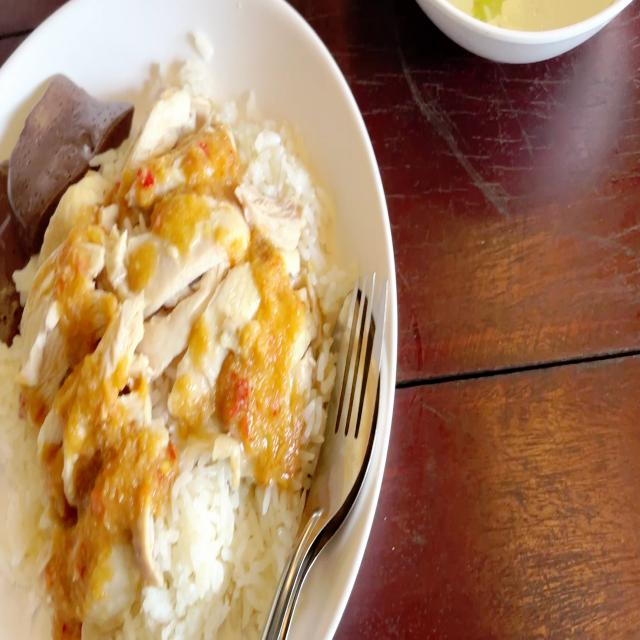boiled_chicken: (47, 124, 274, 561)
boiled_chicken_blood_jelly: (6, 74, 128, 220), (0, 171, 36, 338)
chicken_rice: (0, 36, 337, 640)
